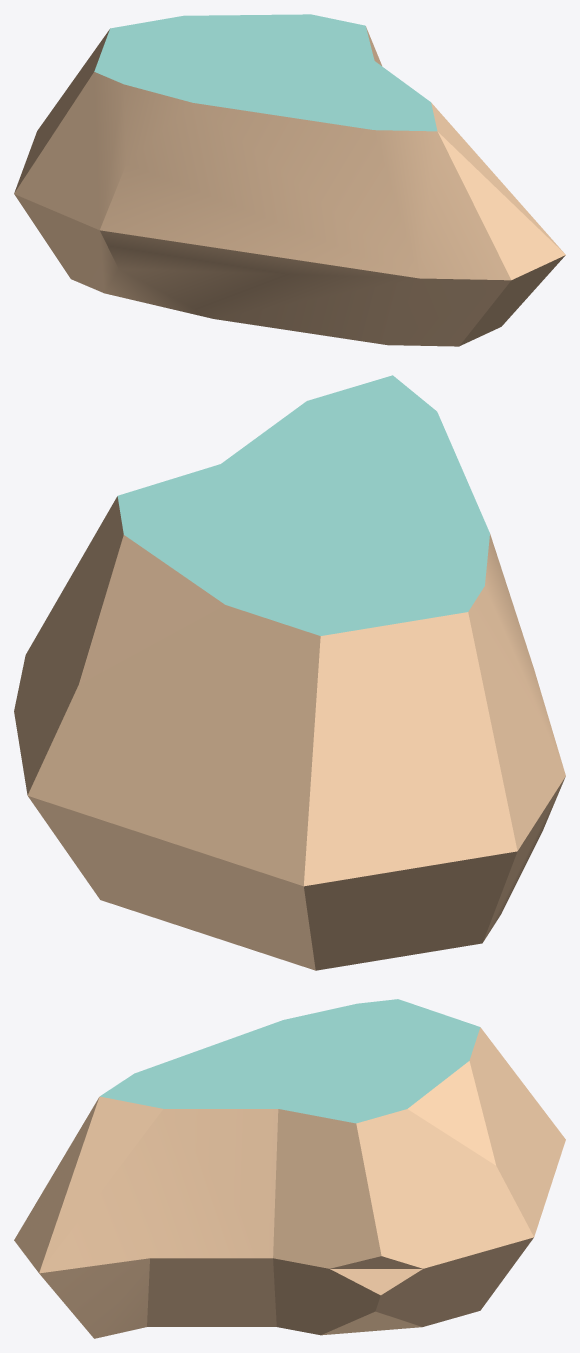
The model's file is rock_large2.glb.
The picture shows the model from 3 angles, top to bottom: view 1: azimuth 30°, elevation 25°; view 2: azimuth 150°, elevation 25°; view 3: azimuth 270°, elevation 25°; orthographic projection. The views are drawn at different scales.
Parts seen in each view (by area): view 1: rock_large2; view 2: rock_large2; view 3: rock_large2.
Part boxes in pixels (left/top/right/bottom): rock_large2: left=14, top=14, right=565, bottom=346; rock_large2: left=14, top=375, right=565, bottom=970; rock_large2: left=14, top=999, right=565, bottom=1338.
Bounding box in the file's own units: 0.7667 × 0.4303 × 1.02.
